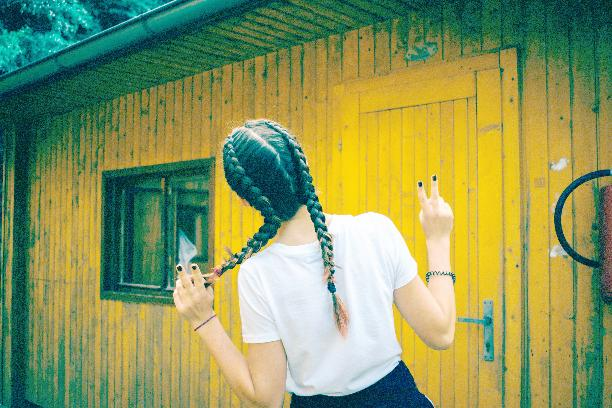Scissors: (416, 171, 457, 242)
